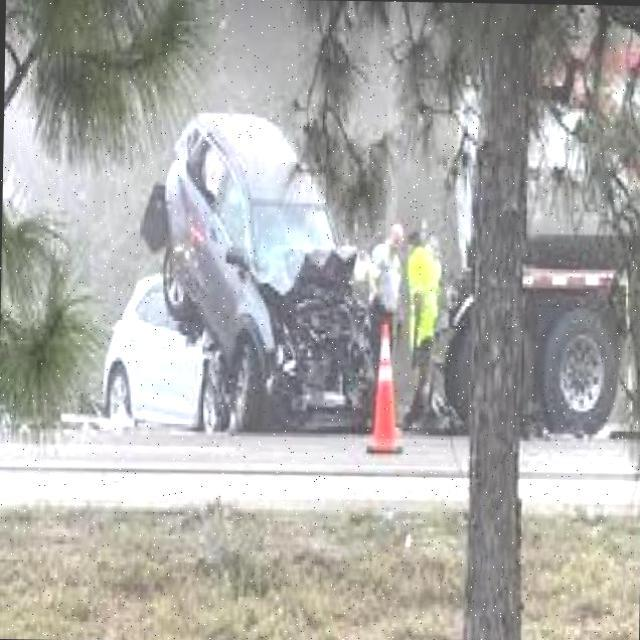accident: (98, 108, 388, 438)
